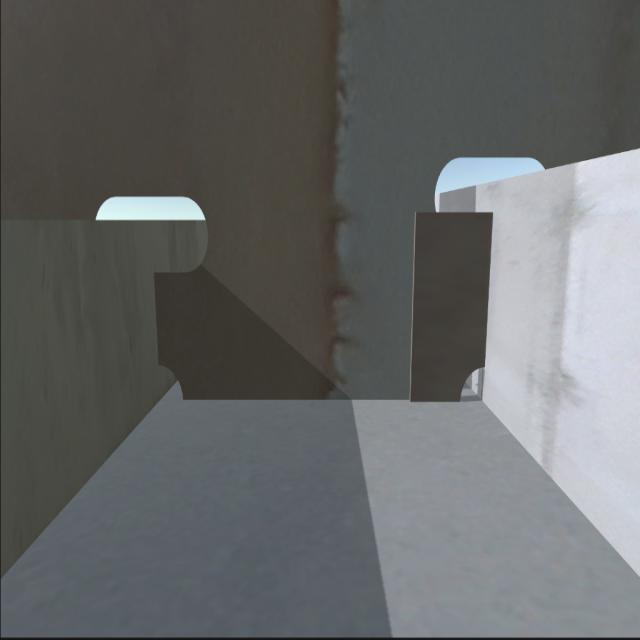fillet_hole: (447, 358, 489, 406), (152, 362, 186, 407)
fillet_yong_jeop_jang: (183, 388, 457, 419)
longi_yong_jeop_jang: (478, 205, 500, 371), (148, 266, 173, 370)
plate_CP01: (410, 206, 492, 404)
